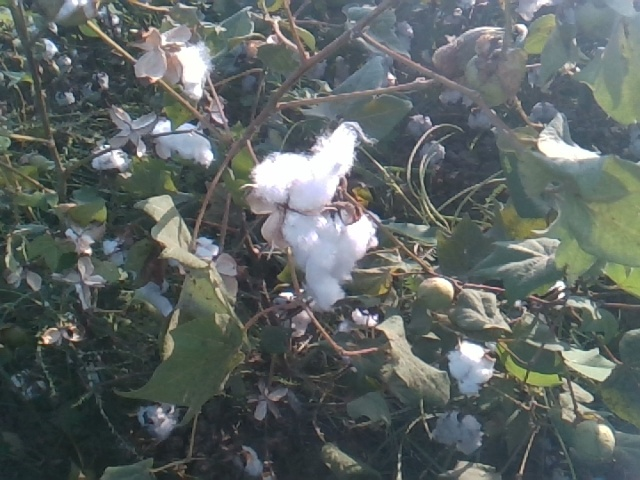cotton: (246, 119, 381, 310), (441, 333, 501, 402), (152, 115, 213, 173), (433, 410, 488, 461), (174, 42, 211, 102), (135, 399, 180, 444), (87, 142, 129, 170)
